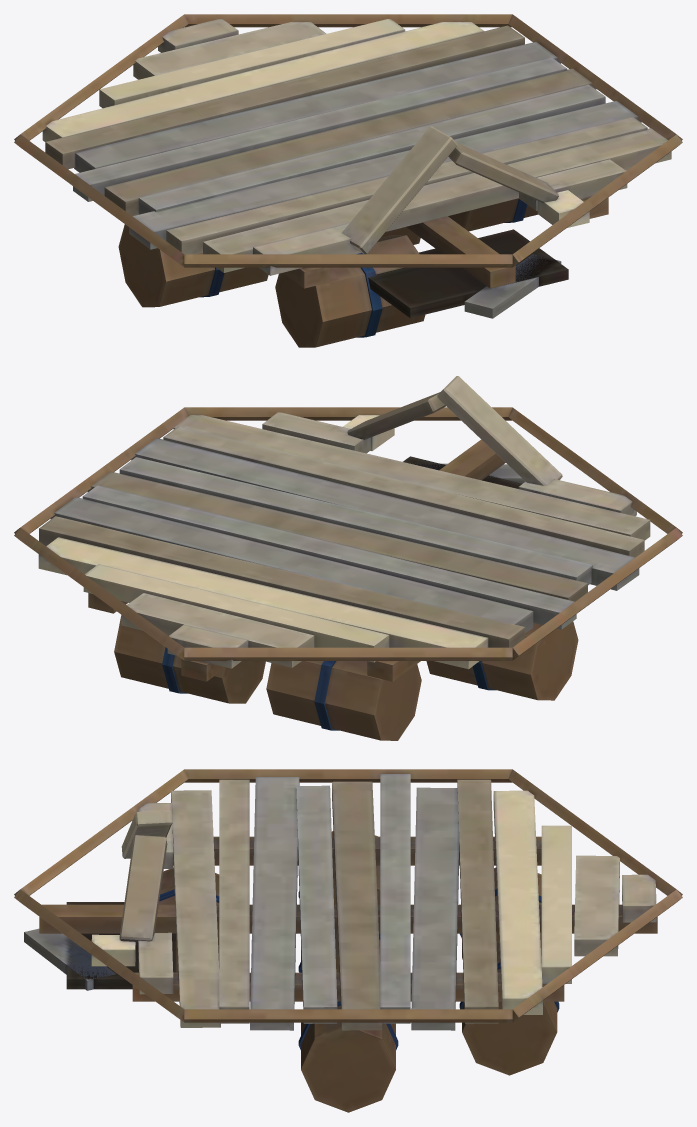
File: raft-damaged-age1.glb
The picture shows the model from 3 angles, top to bottom: view 1: azimuth 30°, elevation 25°; view 2: azimuth 150°, elevation 25°; view 3: azimuth 270°, elevation 25°; orthographic projection.
Visible parts, largest first — view 1: raft-damaged-age1; view 2: raft-damaged-age1; view 3: raft-damaged-age1.
Boxes of the visible parts, box(x1,y1,x2,y2) form: raft-damaged-age1: box(14, 14, 682, 347); raft-damaged-age1: box(14, 376, 682, 740); raft-damaged-age1: box(14, 769, 682, 1112).
Bounding box in the file's own units: 1.59 × 0.6018 × 1.83.
Materials: 1 (1 with a texture image).
